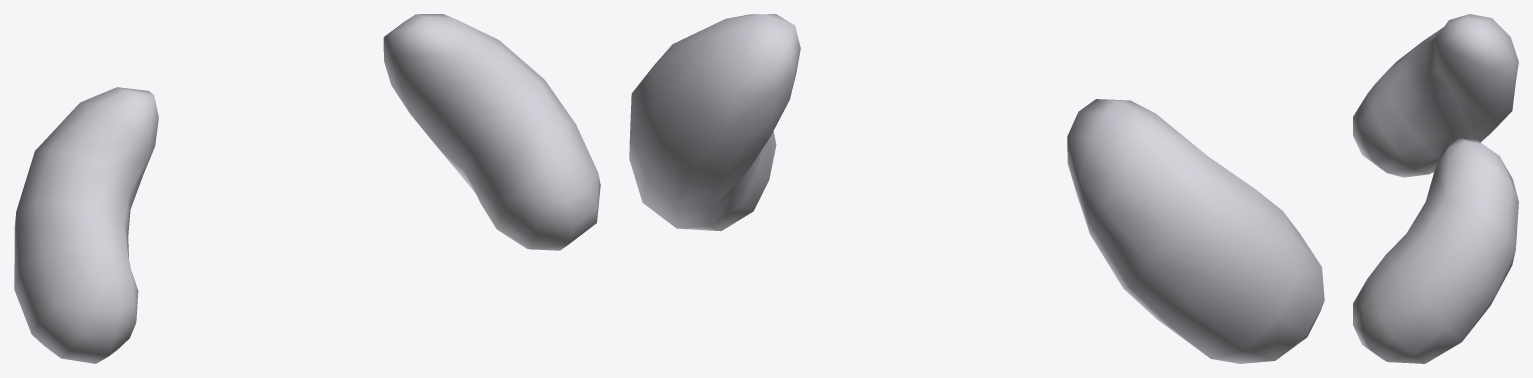
File: Homeworld_Exterior_Common_Prop_Thing_SnowmanHands_02_Vo.fbx
3 renders of one model, left to right at view 1: azimuth 30°, elevation 25°; view 2: azimuth 150°, elevation 25°; view 3: azimuth 270°, elevation 25°, orthographic. The views are drawn at different scales.
Parts seen in each view (by area): view 1: Homeworld_Exterior_Common_Prop_Thing_SnowmanHands_02_Vo; view 2: Homeworld_Exterior_Common_Prop_Thing_SnowmanHands_02_Vo; view 3: Homeworld_Exterior_Common_Prop_Thing_SnowmanHands_02_Vo.
Boxes of the visible parts, left/top/right/bottom form: Homeworld_Exterior_Common_Prop_Thing_SnowmanHands_02_Vo: left=14, top=14, right=600, bottom=363; Homeworld_Exterior_Common_Prop_Thing_SnowmanHands_02_Vo: left=629, top=14, right=1324, bottom=363; Homeworld_Exterior_Common_Prop_Thing_SnowmanHands_02_Vo: left=1353, top=14, right=1518, bottom=363.
Bounding box in the file's own units: 1.05 × 0.3948 × 0.319.
